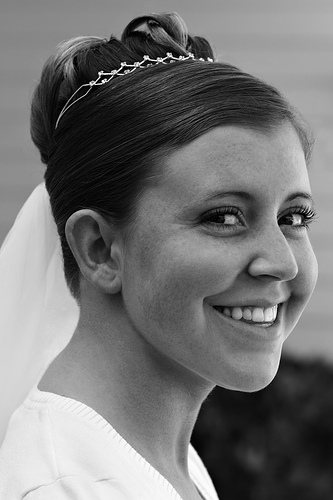without_mask: (60, 67, 333, 402)
